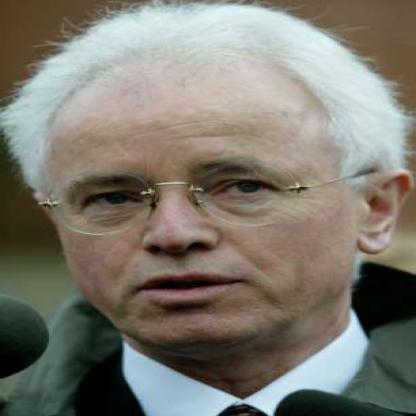face: (31, 34, 364, 355)
